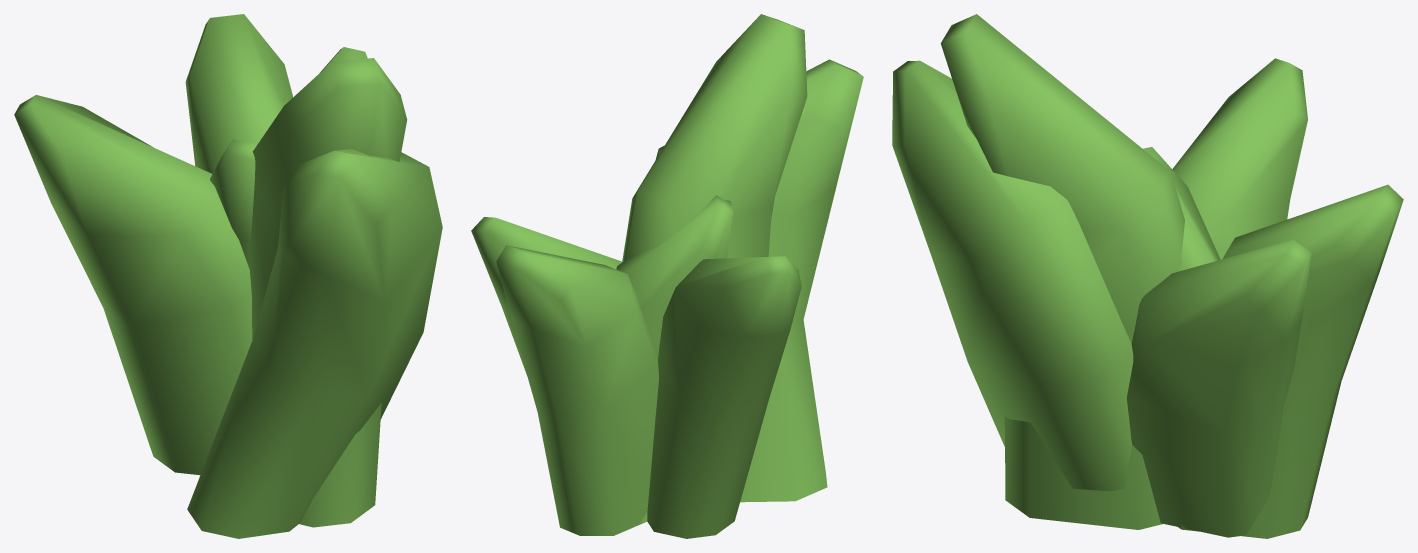
Rendered from Grass.fbx.
3 views of the same model, side by side, from view 1: azimuth 30°, elevation 25°; view 2: azimuth 150°, elevation 25°; view 3: azimuth 270°, elevation 25° (orthographic). The views are drawn at different scales.
Parts seen in each view (by area): view 1: Grass_03, Grass_02, Grass_01; view 2: Grass_02, Grass_03, Grass_01; view 3: Grass_03, Grass_02, Grass_01.
Boxes of the visible parts, x1,y1,x2,y2 form: Grass_03: (14, 47, 442, 538); Grass_02: (185, 14, 407, 527); Grass_01: (210, 139, 257, 269); Grass_02: (496, 14, 807, 535); Grass_03: (471, 59, 863, 538); Grass_01: (616, 195, 733, 357); Grass_03: (892, 58, 1311, 537); Grass_02: (940, 14, 1403, 538); Grass_01: (1143, 147, 1220, 271).
Bounding box in the file's own units: 42.96 × 55.25 × 54.47.
